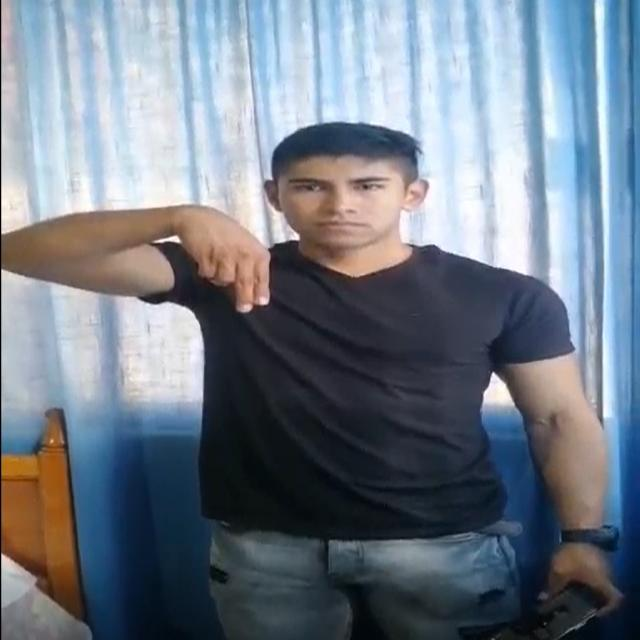N: (154, 164, 288, 360)
